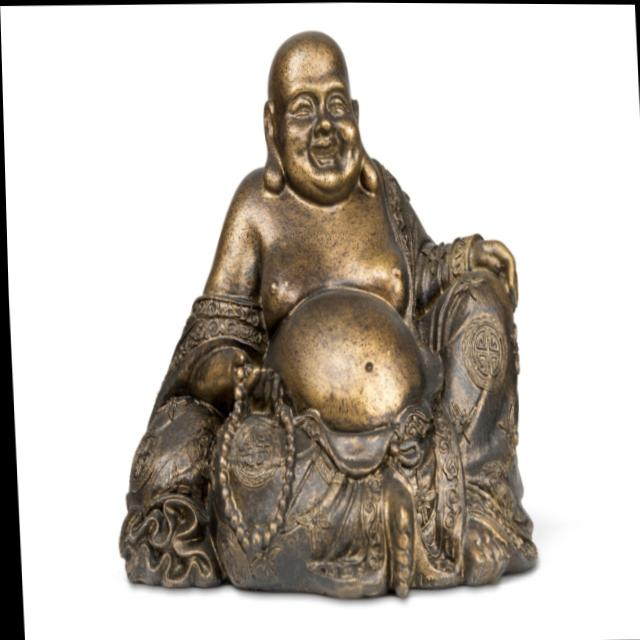Smiling Buddha: (197, 17, 436, 462)
